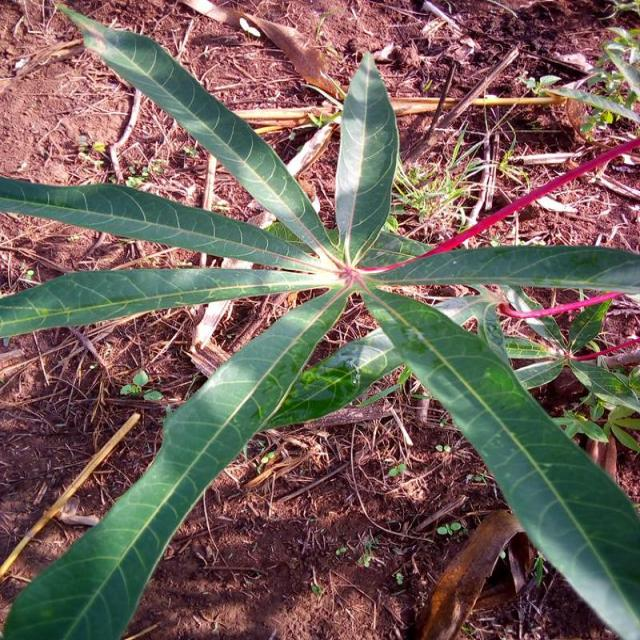cassava leaf: (1, 2, 638, 638), (2, 281, 350, 638), (359, 281, 639, 638), (333, 49, 399, 268)
